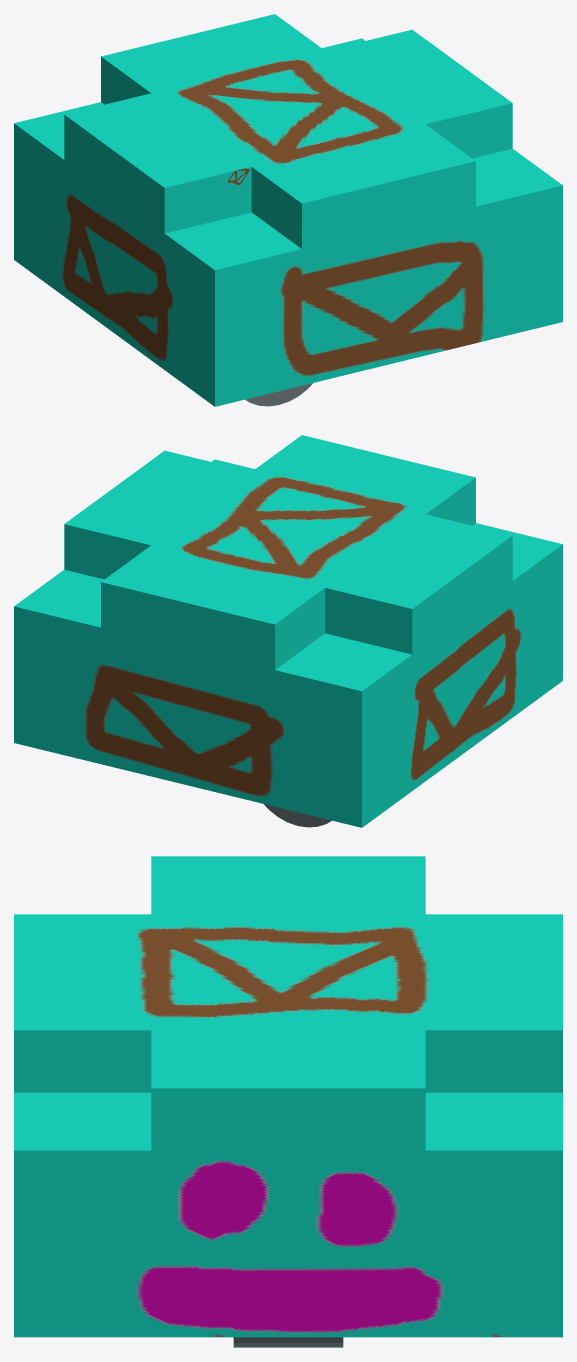
The model's file is bot_main.glb.
The picture shows the model from 3 angles, top to bottom: view 1: azimuth 30°, elevation 25°; view 2: azimuth 150°, elevation 25°; view 3: azimuth 270°, elevation 25°; orthographic projection. The views are drawn at different scales.
Parts seen in each view (by area): view 1: Cube; view 2: Cube; view 3: Cube.
Part boxes in pixels (box(x1,y1,x2,y2)): Cube: box(14, 14, 562, 406); Cube: box(14, 435, 562, 827); Cube: box(14, 856, 562, 1347).
Size of the model in its own units: 10 by 6.46 by 10.
1 material, 1 textured.
